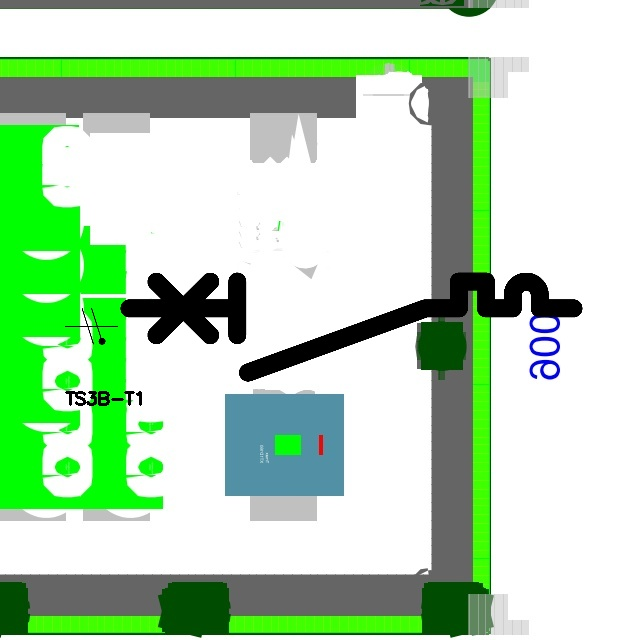interruptor_termomagnetico: (117, 270, 584, 384)
